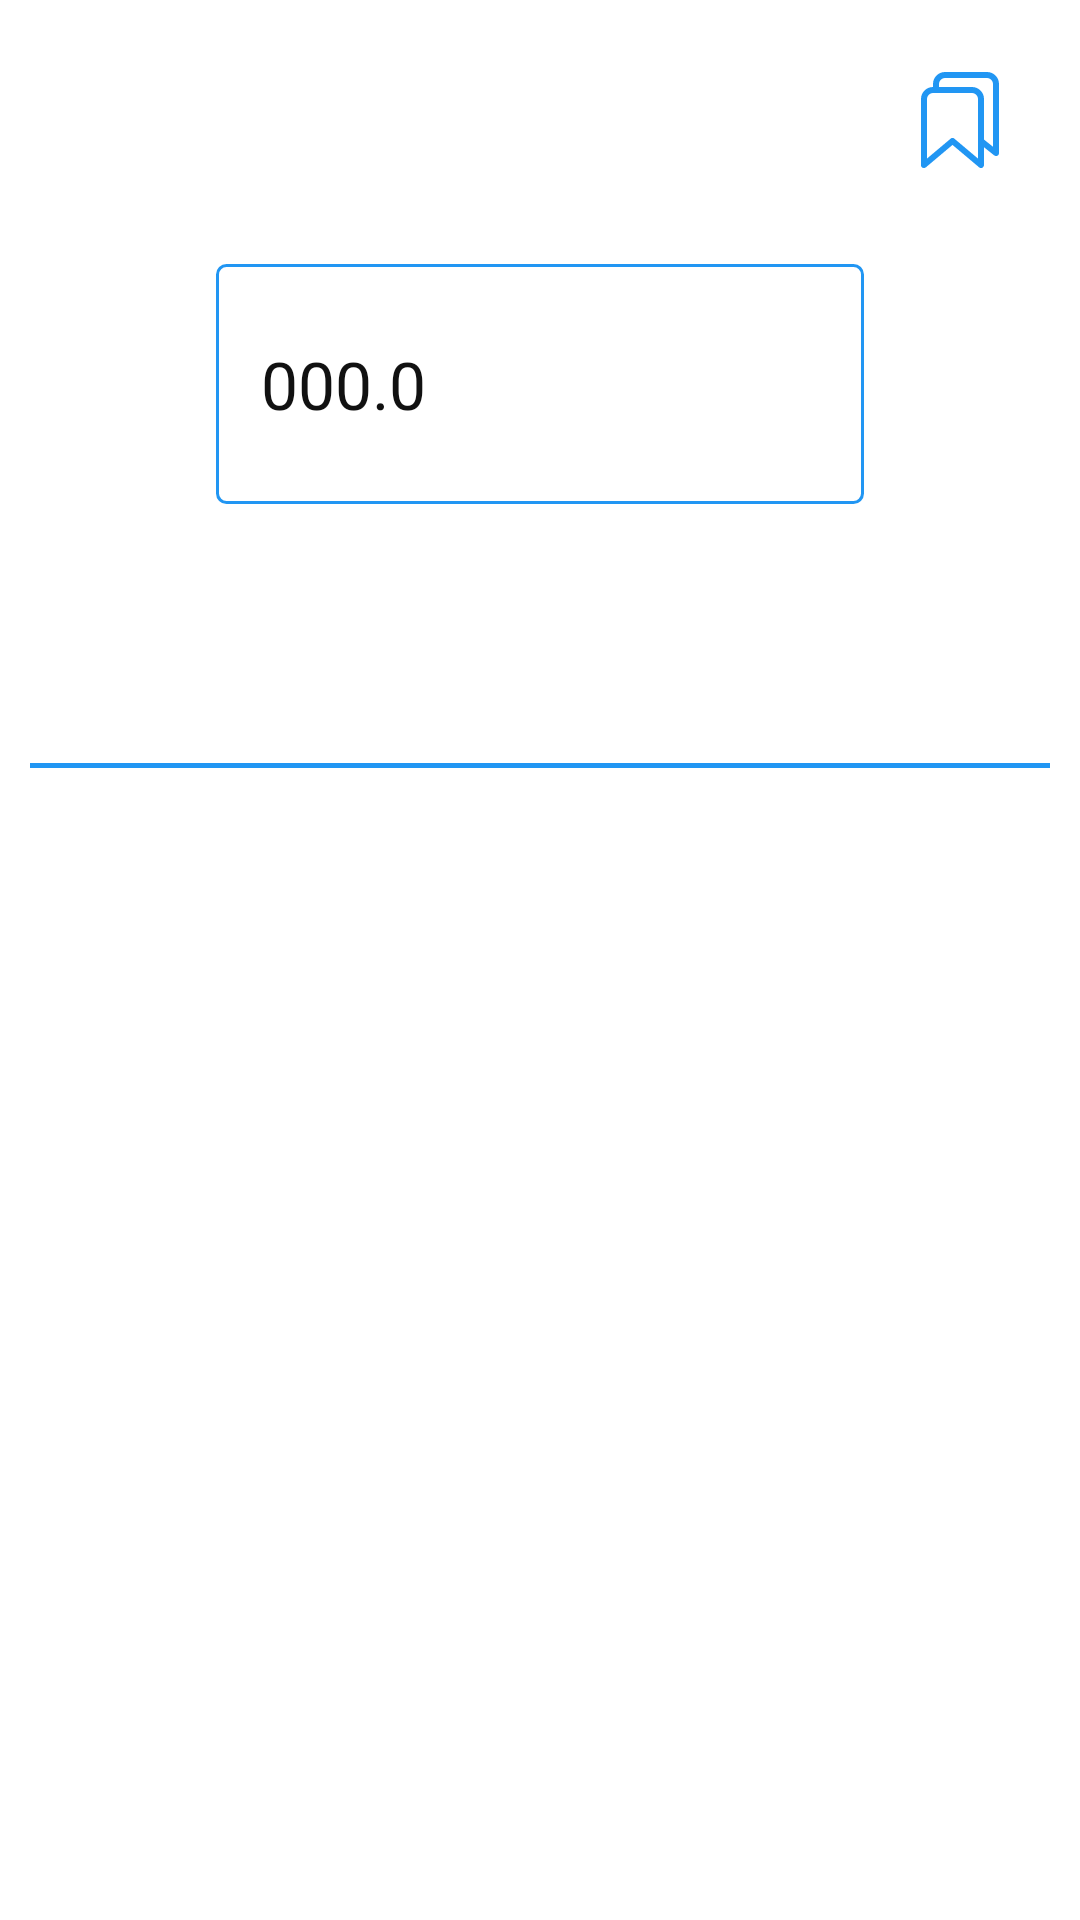

Where icons sit on this 1080px x 1920px app screen, as {"left": x1, "top": y1, "right": x2, "bottom": y2}:
favorites: {"left": 921, "top": 72, "right": 999, "bottom": 168}
